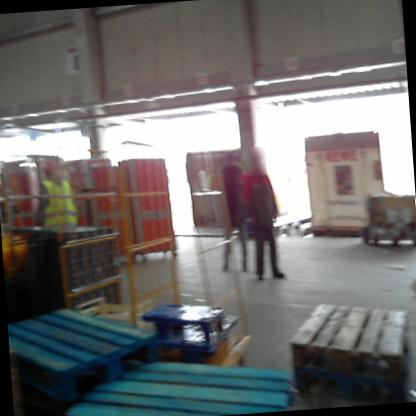pallet: (46, 336, 301, 416), (9, 282, 161, 407), (287, 287, 416, 392), (292, 333, 416, 404)
